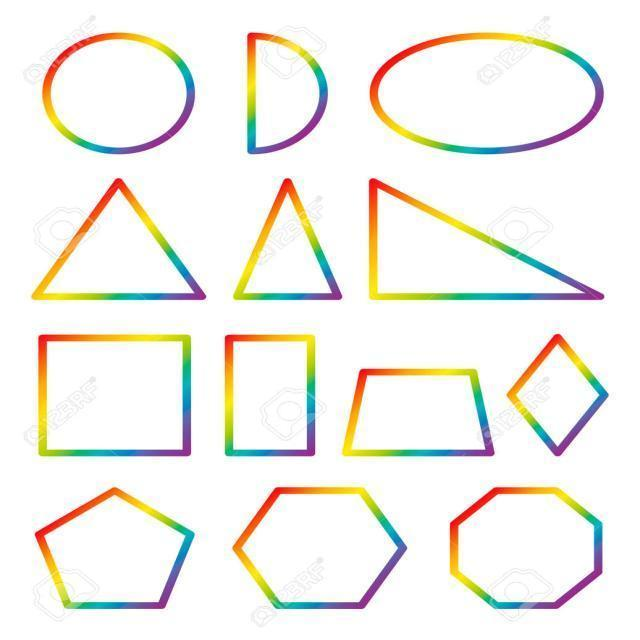circle: (32, 22, 211, 162)
square: (26, 320, 212, 483)
triangle: (355, 167, 621, 321), (16, 173, 212, 315), (232, 180, 364, 319)
